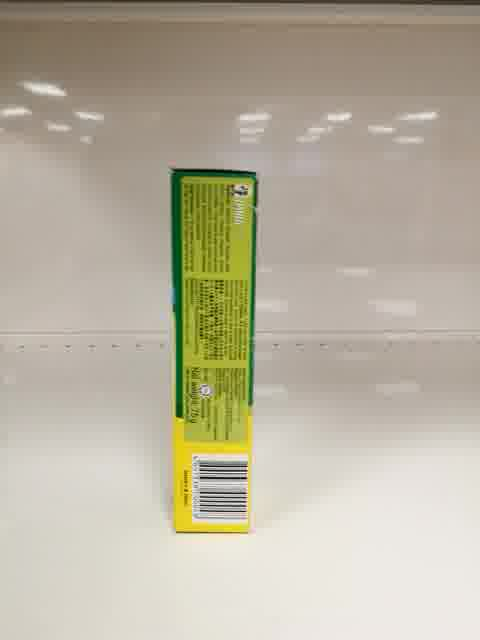toothpaste: (169, 167, 261, 534)
